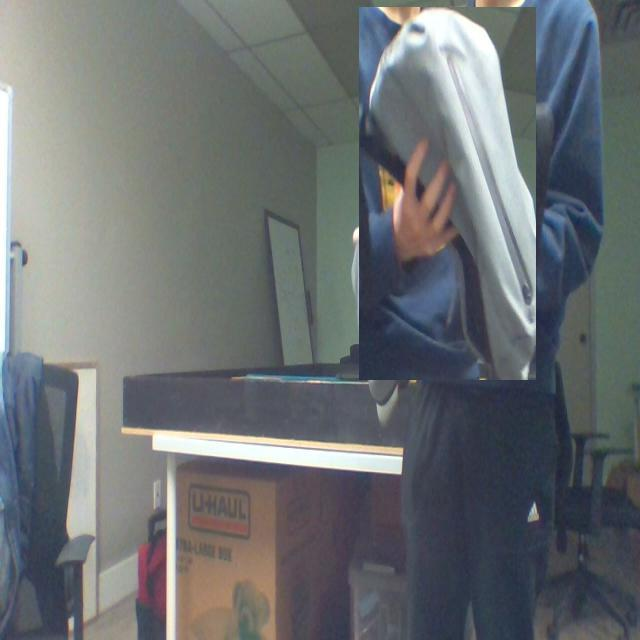Backpacks: (359, 7, 537, 381)
